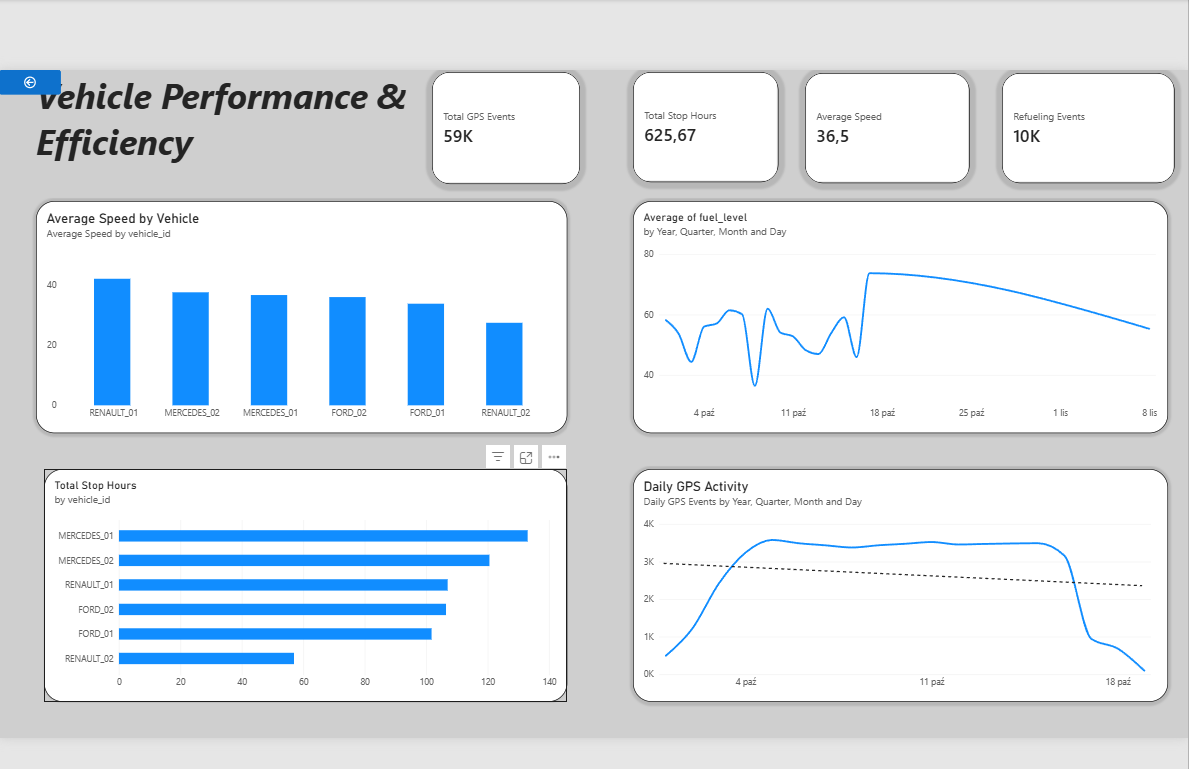

Layout of this report page (visuals, bound fields, positions):
{"tool":"powerbi","page":{"name":"Vehicle Performance","canvas":[1920,1080],"ordinal":1},"visuals":[{"type":"cardVisual","fields":{"Data":["fleet gps_events.Average Speed"]},"box":[1301.4,4.4,265.5,178],"z":0},{"type":"cardVisual","fields":{"Data":["fleet gps_events.Total Stop Hours"]},"box":[1024.2,2.9,234.9,178],"z":1},{"type":"cardVisual","fields":{"Data":["fleet gps_events.Total GPS Events"]},"box":[698.8,2.9,239.3,180.9],"z":2},{"type":"cardVisual","fields":{"Data":["fleet gps_events.Refueling Events"]},"box":[1619.5,4.4,278.7,178],"z":3},{"type":"textbox","box":[86,280,391,166],"z":4},{"type":"clusteredColumnChart","title":"Average Speed by Vehicle","fields":{"Category":["fleet vehicles.vehicle_id"],"Y":["fleet gps_events.Average Speed"]},"box":[59.8,211.6,857.9,375],"z":5},{"type":"lineChart","fields":{"Category":["fleet gps_events.timestamp.Variation.Date Hierarchy.Year","fleet gps_events.timestamp.Variation.Date Hierarchy.Quarter","fleet gps_events.timestamp.Variation.Date Hierarchy.Month","fleet gps_events.timestamp.Variation.Date Hierarchy.Day"],"Y":["Avg(fleet gps_events.fuel_level)"]},"box":[1024.2,211.6,863.7,375],"z":6},{"type":"lineChart","title":"Daily GPS Activity","fields":{"Category":["fleet v_daily_fleet_performance.report_date.Variation.Date Hierarchy.Year","fleet v_daily_fleet_performance.report_date.Variation.Date Hierarchy.Quarter","fleet v_daily_fleet_performance.report_date.Variation.Date Hierarchy.Month","fleet v_daily_fleet_performance.report_date.Variation.Date Hierarchy.Day"],"Y":["fleet gps_events.Daily GPS Events"]},"box":[1024.2,644.9,863.7,376.4],"z":7},{"type":"clusteredBarChart","fields":{"Category":["fleet vehicles.vehicle_id"],"Y":["fleet gps_events.Total Stop Hours"]},"box":[72.9,644.9,844.7,376.4],"z":8},{"type":"textbox","box":[60,3,639,181],"z":9},{"type":"actionButton","box":[0,0,100,40],"z":10},{"type":"actionButton","box":[0,0,100,40],"z":11}]}

Visuals, with their boxes in screenshot pixels (x1, y1, x2, y2):
cardVisual - fleet gps_events.Average Speed: [801,74,963,183]
cardVisual - fleet gps_events.Total Stop Hours: [632,73,775,182]
cardVisual - fleet gps_events.Total GPS Events: [433,73,579,183]
cardVisual - fleet gps_events.Refueling Events: [995,74,1165,183]
textbox: [59,242,297,344]
"Average Speed by Vehicle" clusteredColumnChart: [43,200,567,429]
lineChart - fleet gps_events.timestamp.Variation.Date Hierarchy.Year x fleet gps_events.timestamp.Variation.Date Hierarchy.Quarter: [632,200,1159,429]
"Daily GPS Activity" lineChart: [632,465,1159,695]
clusteredBarChart - fleet vehicles.vehicle_id x fleet gps_events.Total Stop Hours: [51,465,567,695]
textbox: [43,73,433,184]
actionButton: [6,71,67,96]
actionButton: [6,71,67,96]
